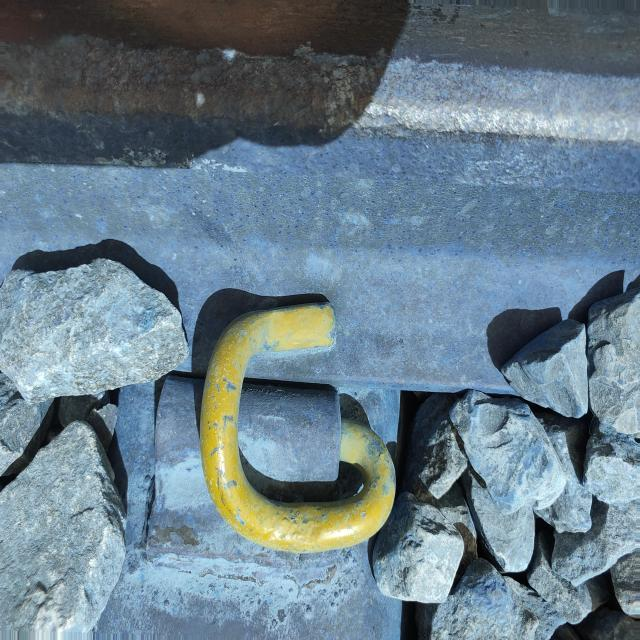Good Fasteners: (102, 263, 413, 617)
